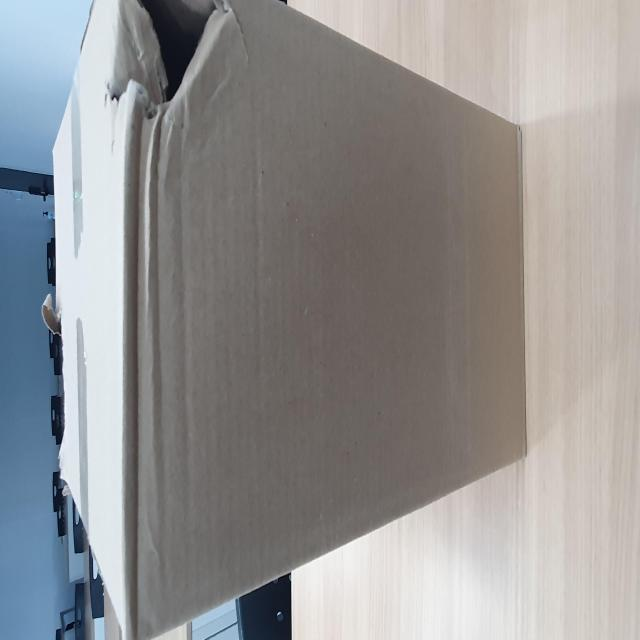damaged: (291, 184, 360, 425)
